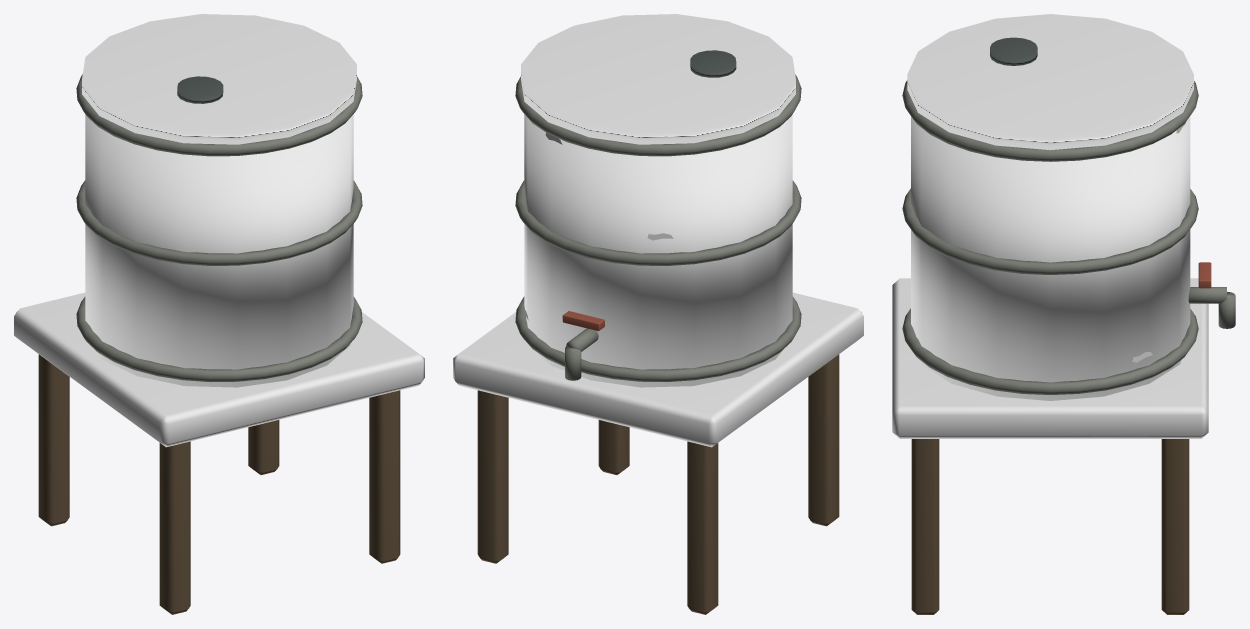
Rendered from WaterBarrelStand02.fbx.
The picture shows the model from 3 angles, left to right: view 1: azimuth 30°, elevation 25°; view 2: azimuth 150°, elevation 25°; view 3: azimuth 270°, elevation 25°; orthographic projection. The views are drawn at different scales.
Parts seen in each view (by area): view 1: WaterBarrelStand02; view 2: WaterBarrelStand02; view 3: WaterBarrelStand02.
Part boxes in pixels (left/top/right/bottom): WaterBarrelStand02: left=14, top=14, right=424, bottom=614; WaterBarrelStand02: left=453, top=14, right=863, bottom=614; WaterBarrelStand02: left=892, top=14, right=1235, bottom=614.
Size of the model in its own units: 86 by 148 by 93.3.
